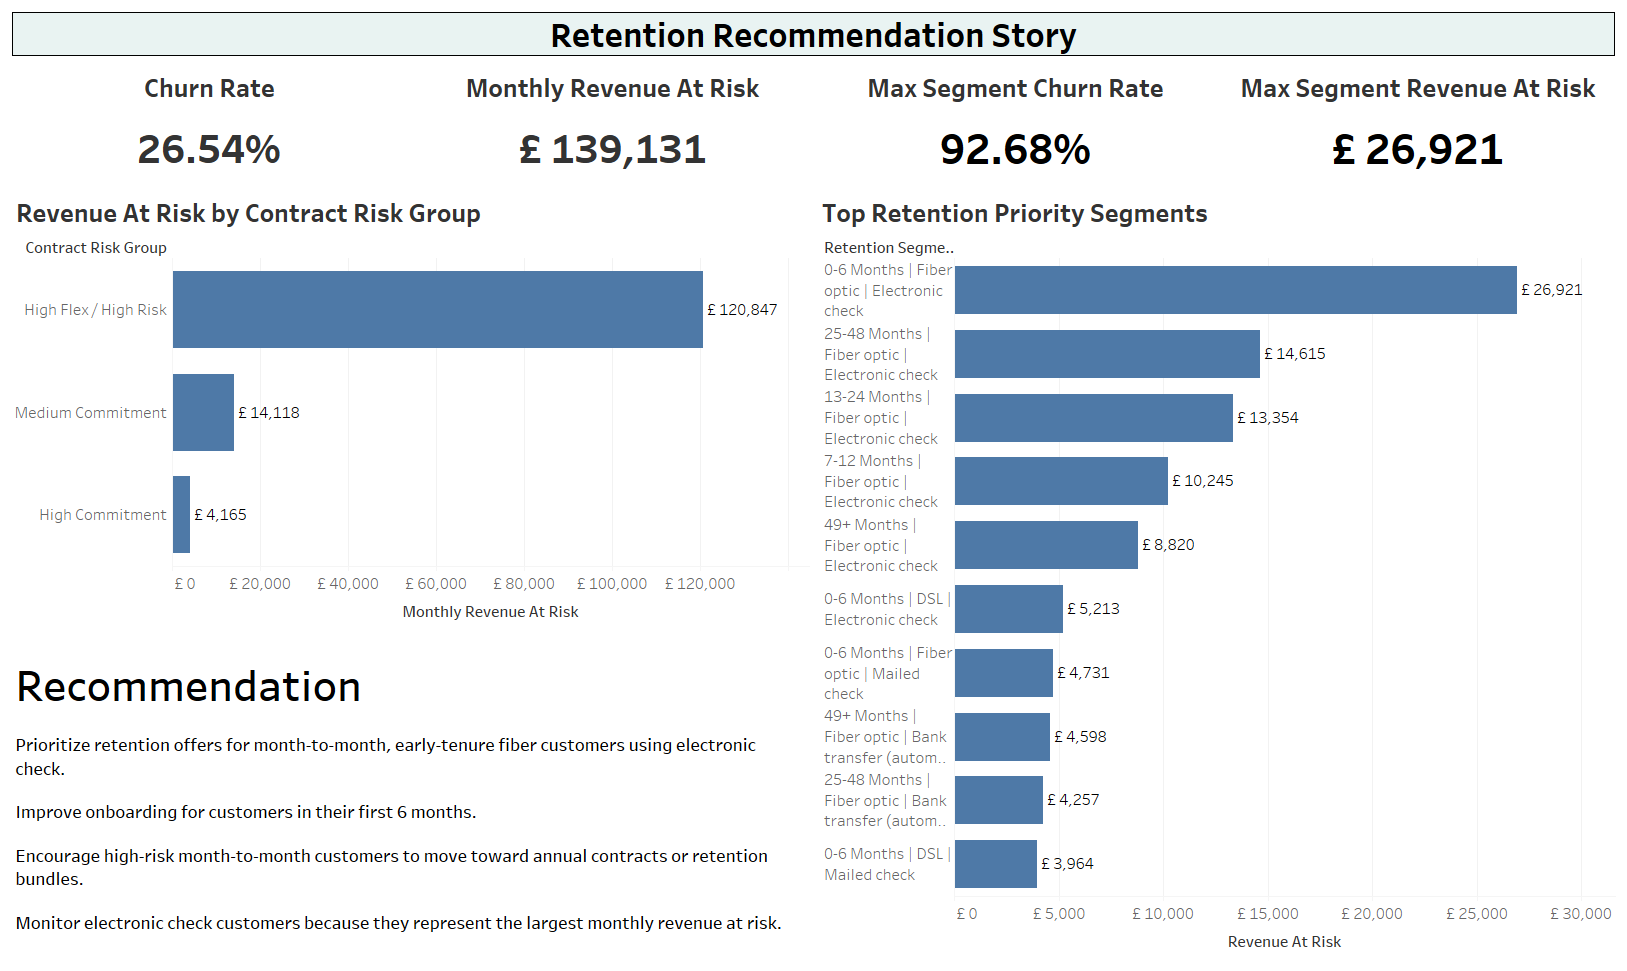

What the dashboard file says about the page in this screenshot:
{"tool":"tableau","page":{"name":"Retention Recommendation Story","canvas":[1000,1000],"units":"permille","ordinal":1},"visuals":[{"type":"text","box":[4.9,8.2,990.2,53.6]},{"type":"worksheet","title":"Churn Rate","mark":"Automatic","box":[4.9,61.8,247.7,128.7]},{"type":"worksheet","title":"Monthly Revenue At Risk","mark":"Automatic","box":[252.6,61.8,247.7,128.7]},{"type":"worksheet","title":"Max Segment Churn Rate","mark":"Automatic","box":[500.3,61.8,247.7,128.7]},{"type":"worksheet","title":"Max Segment Revenue At Risk","mark":"Automatic","box":[748,61.8,247.1,128.7]},{"type":"worksheet","title":"Revenue At Risk by Contract Risk Group","mark":"Bar","rows":["contract_risk_group"],"cols":["monthly_revenue_at_risk"],"box":[4.9,190.5,495.1,461.4]},{"type":"worksheet","title":"Top Retention Priority Segments","mark":"Automatic","rows":["Calculation_155937203130437636"],"cols":["revenue_at_risk"],"box":[500,190.5,495.1,801.1]},{"type":"text","box":[4.9,651.9,495.1,339.9]}]}

Visuals, with their boxes on the dashboard's canvas, which has no fixed pixel size, in thousandths of its width and height (x1, y1, x2, y2). These are canvas units, not pixel positions in the 1627x971 screenshot, which may show the page scaled, cropped or inside an application window:
text: box=[5, 8, 995, 62]
"Churn Rate" worksheet: box=[5, 62, 253, 190]
"Monthly Revenue At Risk" worksheet: box=[253, 62, 500, 190]
"Max Segment Churn Rate" worksheet: box=[500, 62, 748, 190]
"Max Segment Revenue At Risk" worksheet: box=[748, 62, 995, 190]
"Revenue At Risk by Contract Risk Group" worksheet (Bar marks): box=[5, 190, 500, 652]
"Top Retention Priority Segments" worksheet: box=[500, 190, 995, 992]
text: box=[5, 652, 500, 992]
